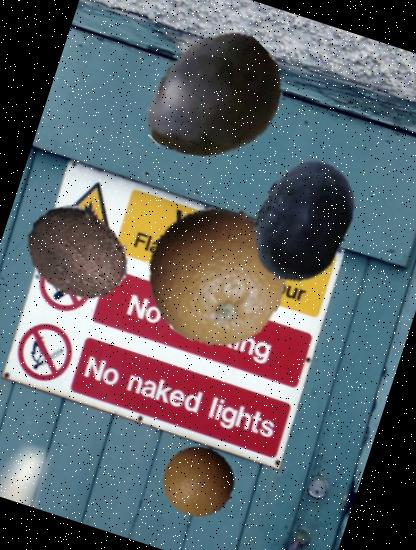Blueberry: (222, 140, 383, 301)
Cocos: (9, 184, 146, 322)
Orange: (128, 187, 304, 364), (153, 436, 246, 529)
Plum: (124, 10, 305, 191)
